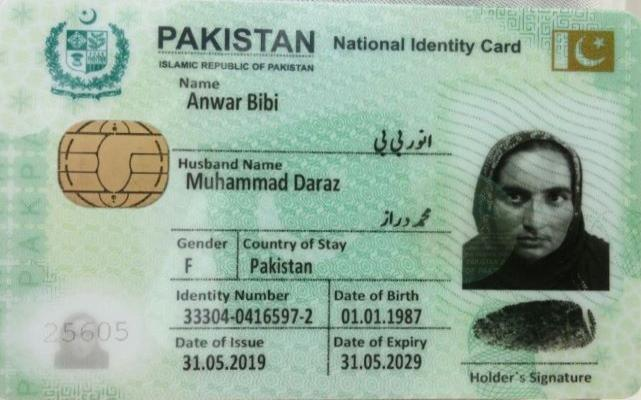fname: (183, 168, 345, 196)
name: (182, 88, 280, 115)
number: (179, 305, 318, 326)
